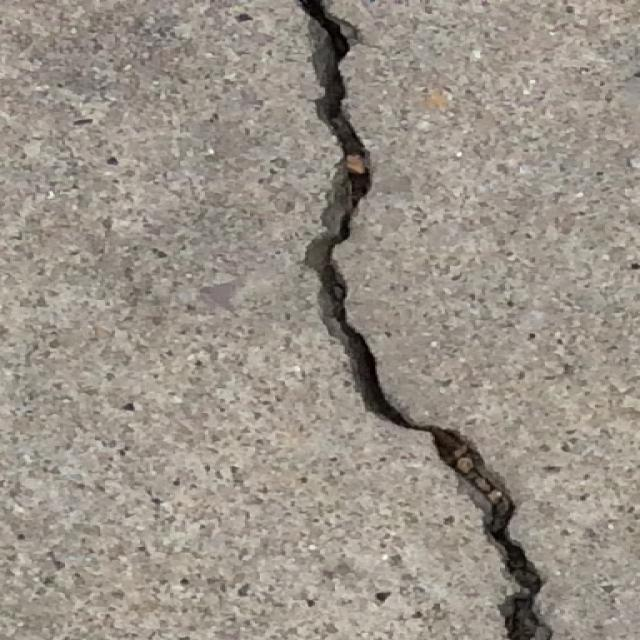Longitudinal: (286, 0, 559, 640)
